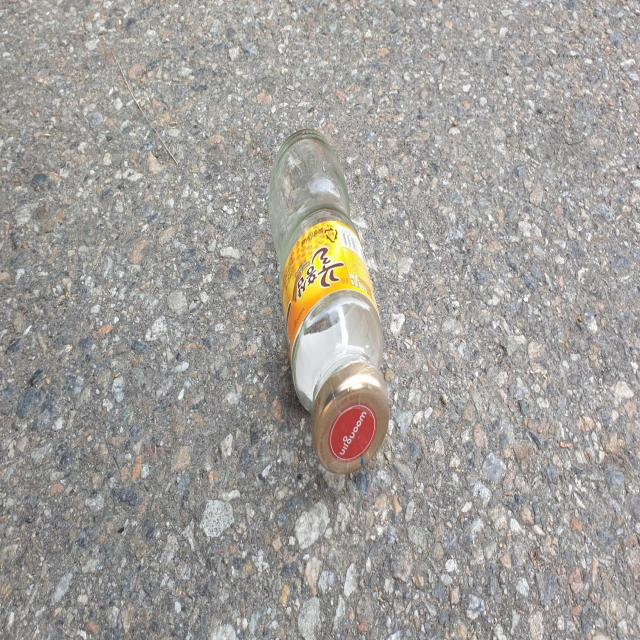glass: (269, 129, 390, 473)
